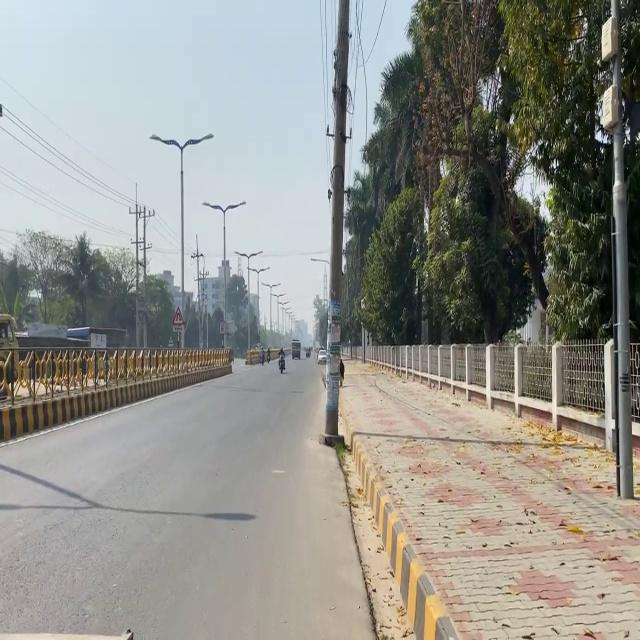Construction-barrier: (336, 368, 462, 638), (334, 443, 380, 638)
Fallen-tree: (278, 355, 286, 373)
Light-pole: (608, 0, 635, 499), (321, 0, 350, 442)
Pole: (0, 340, 202, 442)
Pothole: (337, 355, 639, 639)
Traffic-cone: (0, 312, 20, 400)
